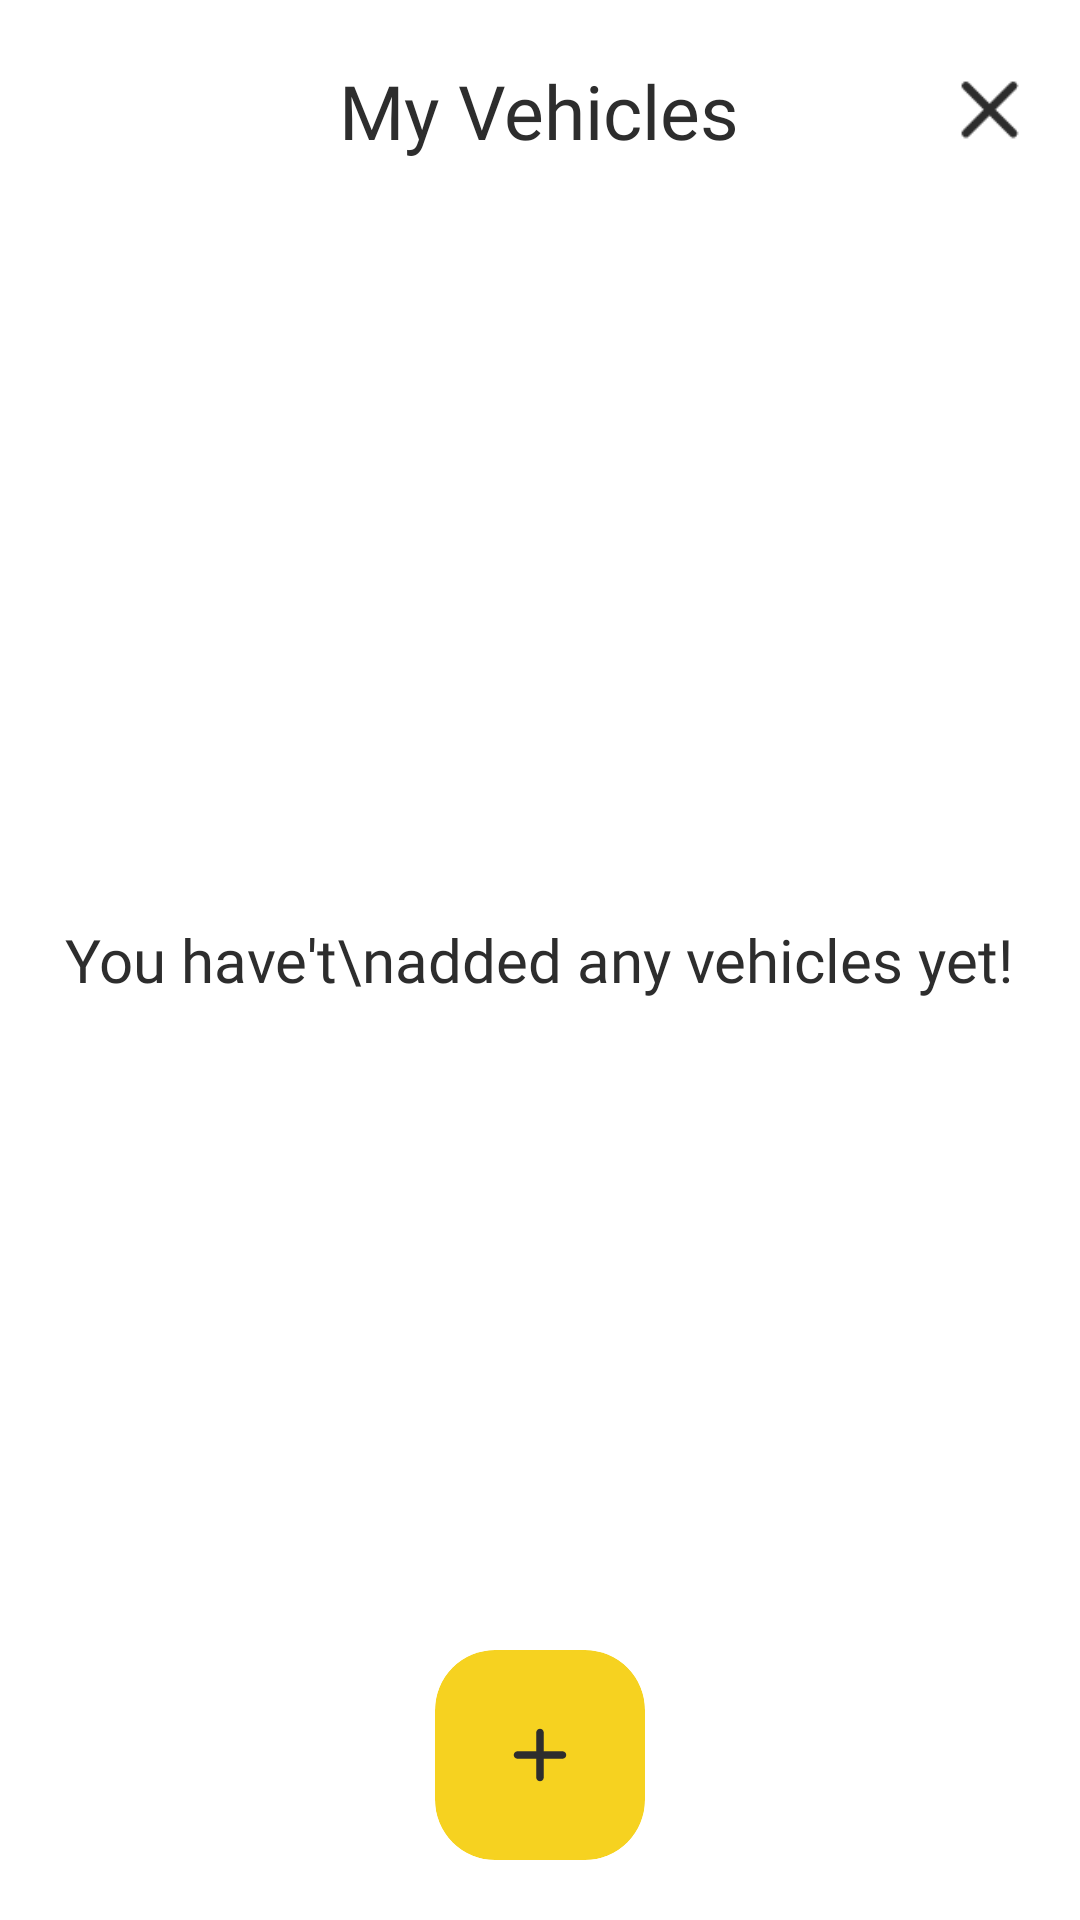

Screen size 1080×1920. Icon name, then its center in pixels as [x,y]:
add: [540,1755]
close: [990,110]
